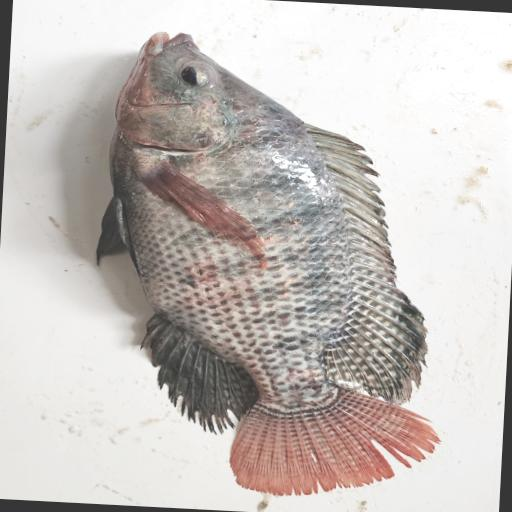Tilapia: (83, 29, 462, 505)
